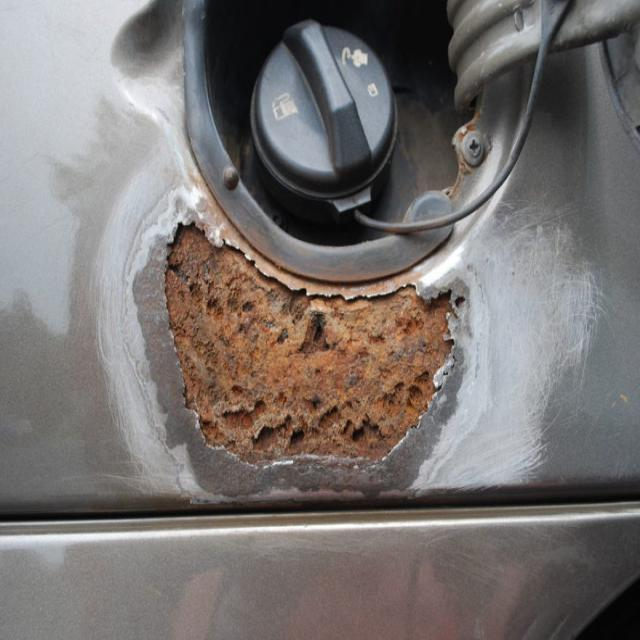corrosion: (166, 229, 452, 463), (458, 124, 484, 138)
